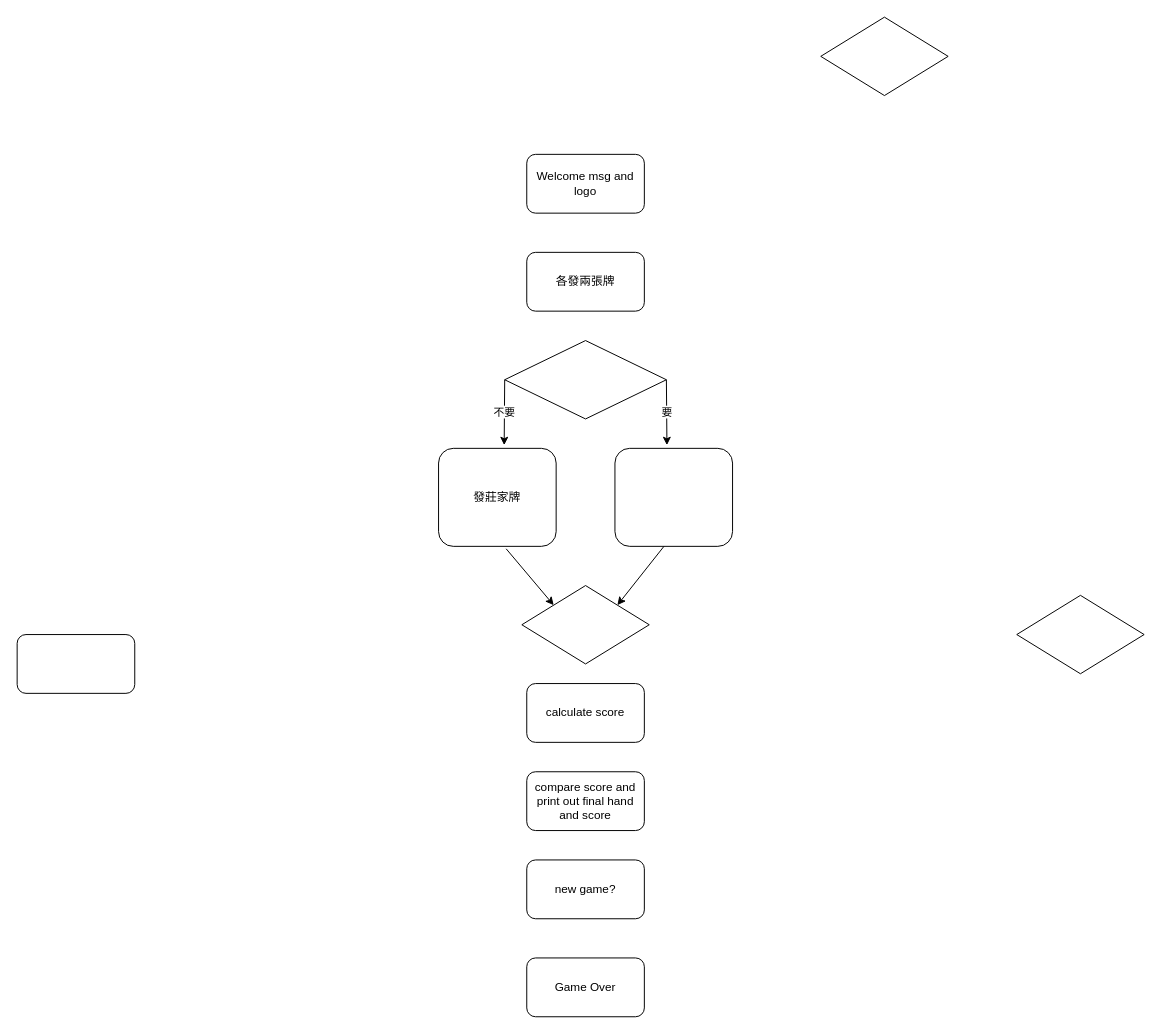
Image size: 1161x1034. Some labels were removed from this diagram. The shapes that lost their labels are listed below. From the top down, each one's centre as x and y in pixels, then its label:
the point at 585,379: 閒家是否還要牌
the point at 585,624: go over 21?
